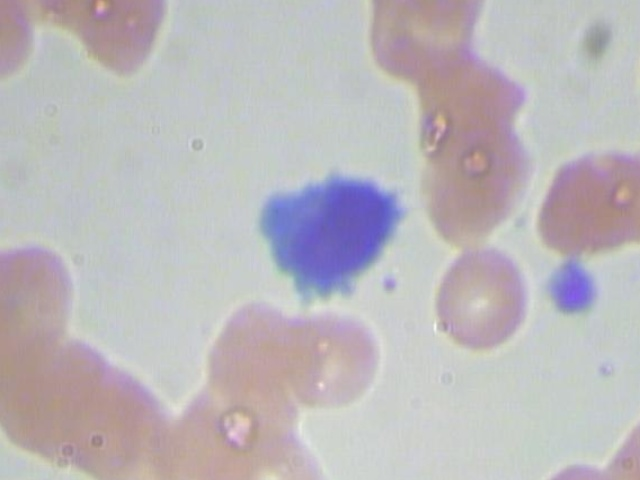Platelets: (533, 254, 601, 335)
RBC: (417, 240, 539, 361), (275, 294, 397, 415), (526, 144, 640, 265), (58, 0, 181, 93)
WBC: (249, 164, 421, 320)
